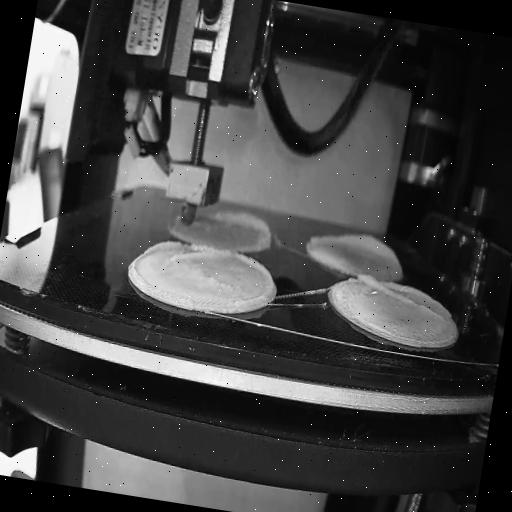over_extrusion: (350, 272, 450, 322), (306, 222, 400, 262), (224, 251, 278, 315), (144, 236, 230, 272), (208, 204, 278, 248)
